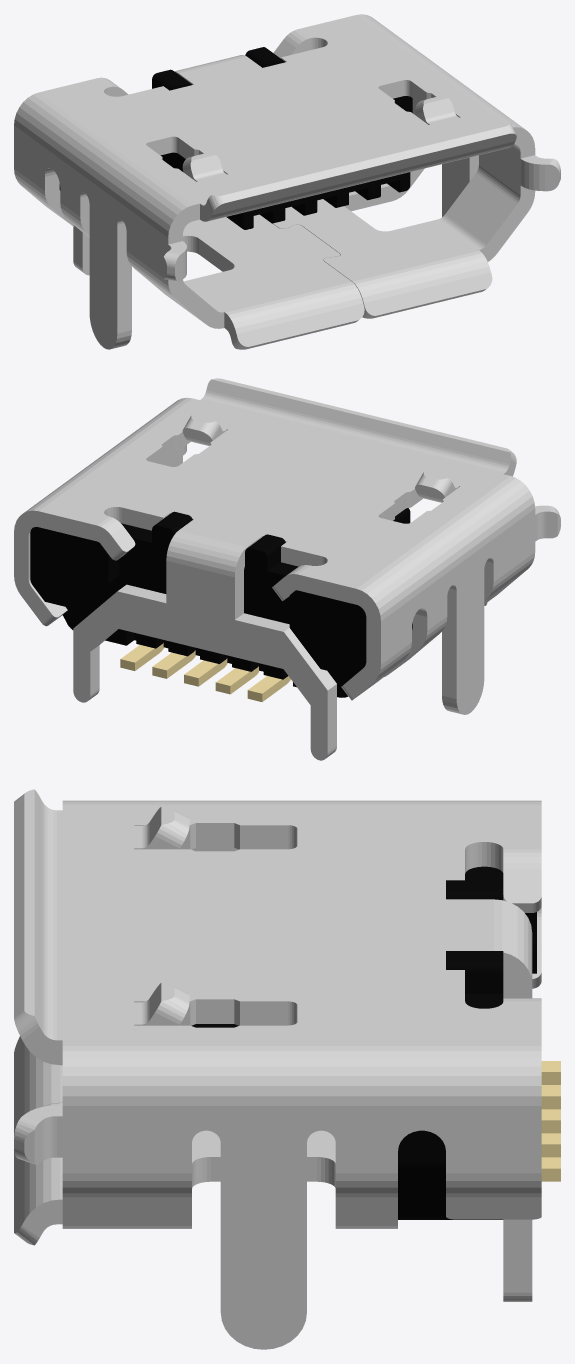
Rendered from MicroUSB.gltf.
3 views of the same model, one above another, from view 1: azimuth 30°, elevation 25°; view 2: azimuth 150°, elevation 25°; view 3: azimuth 270°, elevation 25° (orthographic). The views are drawn at different scales.
Parts seen in each view (by area): view 1: Housing, Plastic; view 2: Housing, Plastic, Pins; view 3: Housing, Plastic, Pins.
Boxes of the visible parts, left/top/right/bottom form: Housing: left=14, top=14, right=560, bottom=349; Plastic: left=59, top=47, right=412, bottom=229; Housing: left=14, top=378, right=560, bottom=760; Plastic: left=30, top=508, right=412, bottom=697; Pins: left=120, top=643, right=290, bottom=701; Housing: left=14, top=789, right=541, bottom=1349; Plastic: left=191, top=866, right=536, bottom=1219; Pins: left=541, top=1061, right=560, bottom=1181.
Size of the model in its own units: 0.00798 by 0.00384 by 0.00618.
